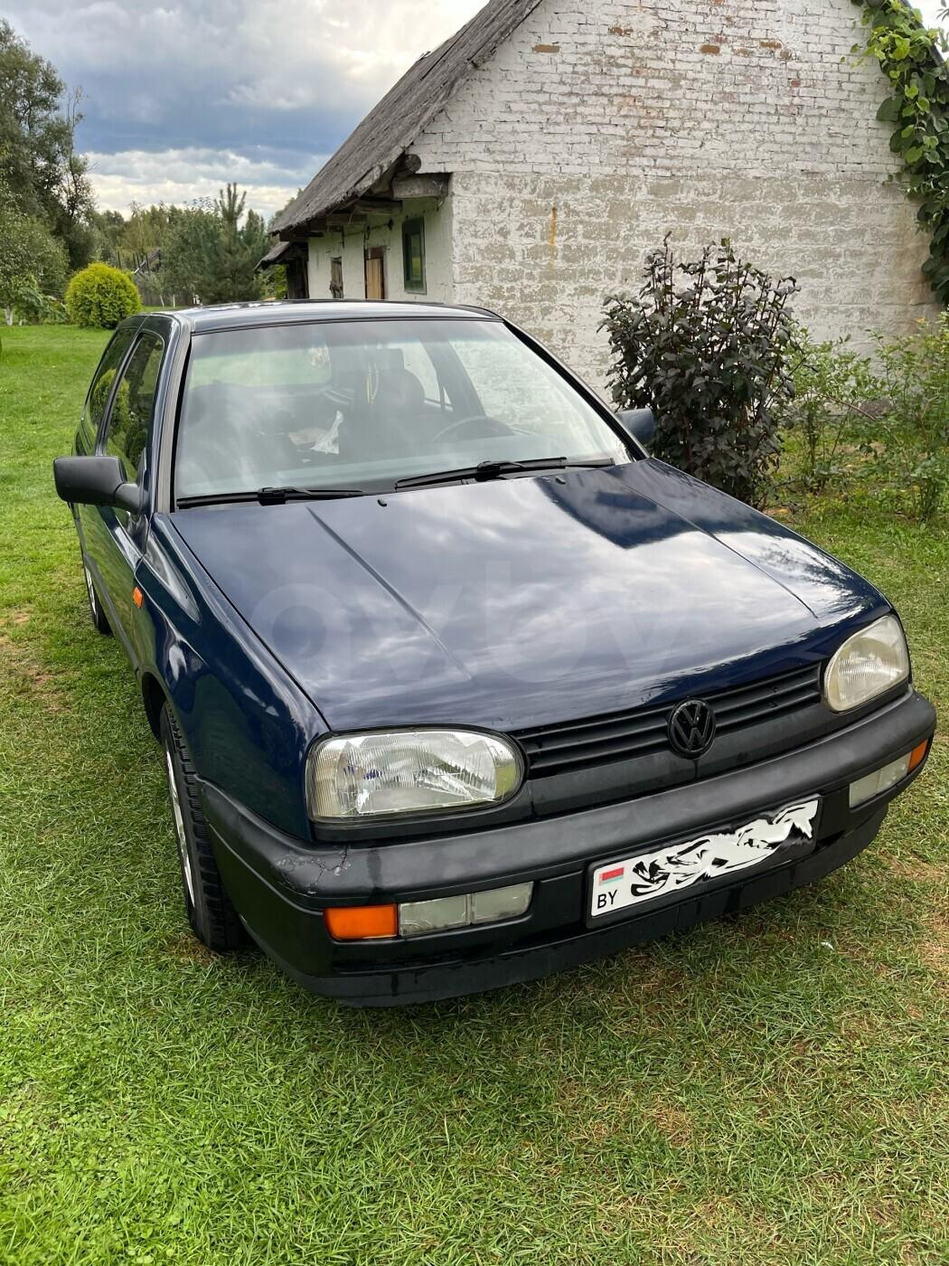Golf_1991-2000: (52, 290, 935, 984)
